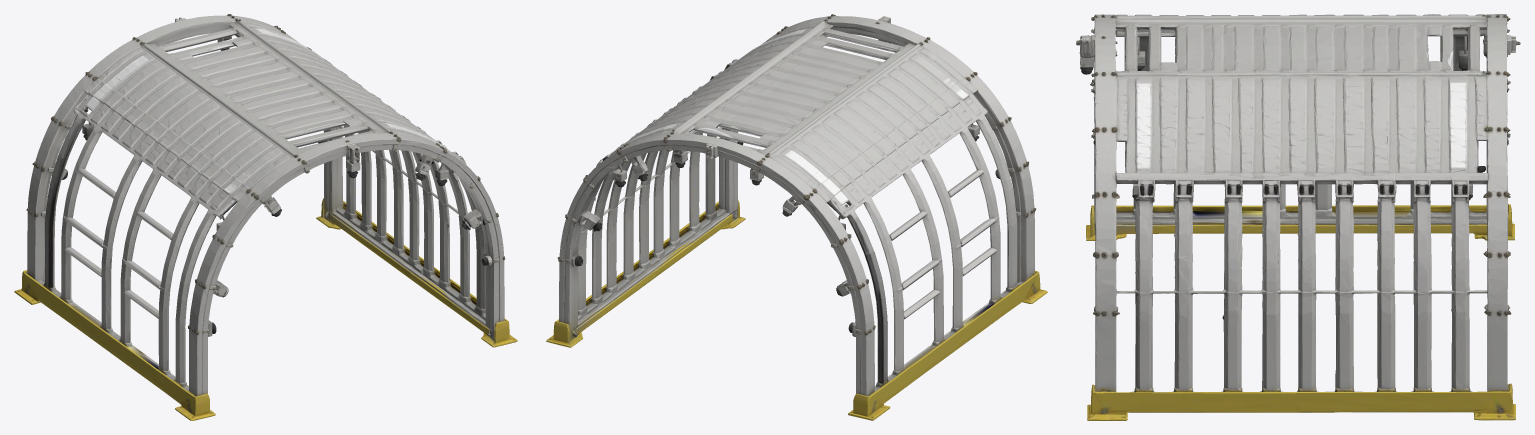
Rendered from tunnel.glb.
3 views of the same model, side by side, from view 1: azimuth 30°, elevation 25°; view 2: azimuth 150°, elevation 25°; view 3: azimuth 270°, elevation 25° (orthographic). The views are drawn at different scales.
Size of the model in its own units: 1 by 0.69 by 0.9639.
1 material, 1 textured.
